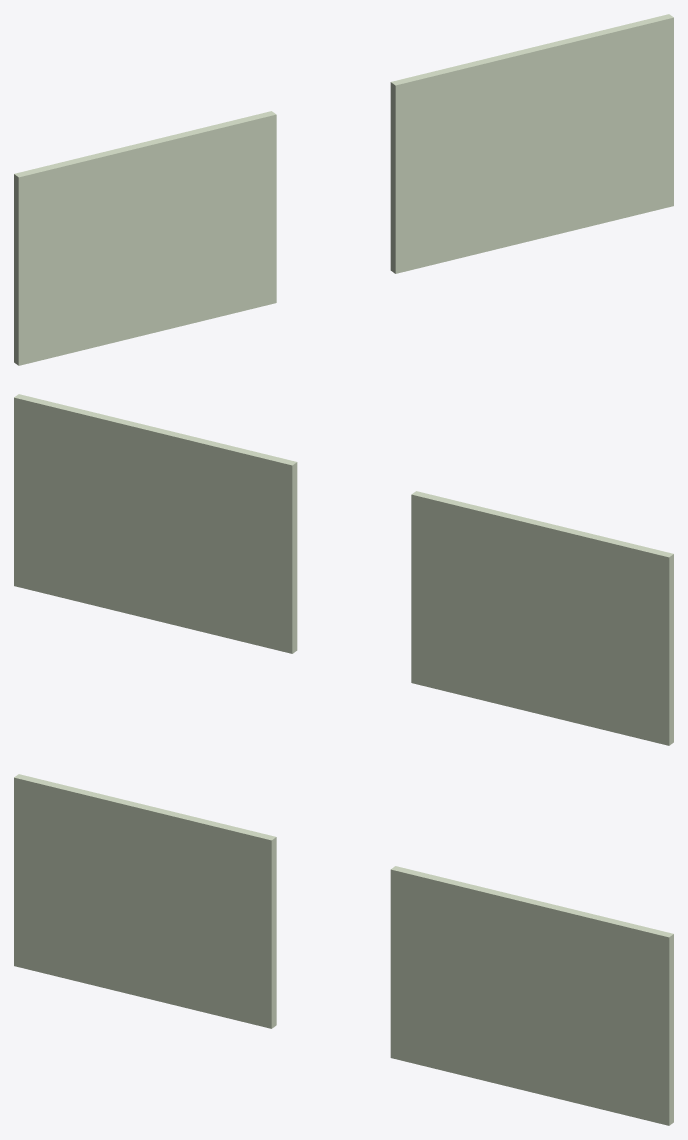
Rendered from glass_right.fbx.
The picture shows the model from 3 angles, top to bottom: view 1: azimuth 30°, elevation 25°; view 2: azimuth 150°, elevation 25°; view 3: azimuth 330°, elevation 25°; orthographic projection.
Visible parts, largest first — view 1: glass_right; view 2: glass_right; view 3: glass_right.
Boxes of the visible parts, box(x1,y1,x2,y2) form: glass_right: box(14, 14, 673, 365); glass_right: box(14, 394, 673, 745); glass_right: box(14, 774, 673, 1125).
Bounding box in the file's own units: 3684 × 1013 × 46.98.
